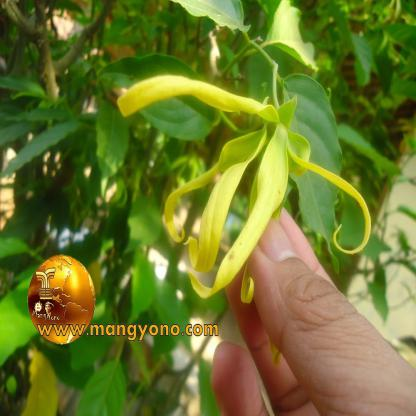Kenanga: (212, 61, 339, 247)
